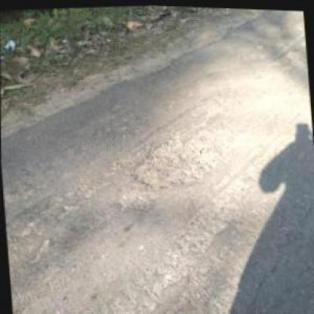Hueco: (125, 127, 221, 192), (117, 186, 162, 216)
